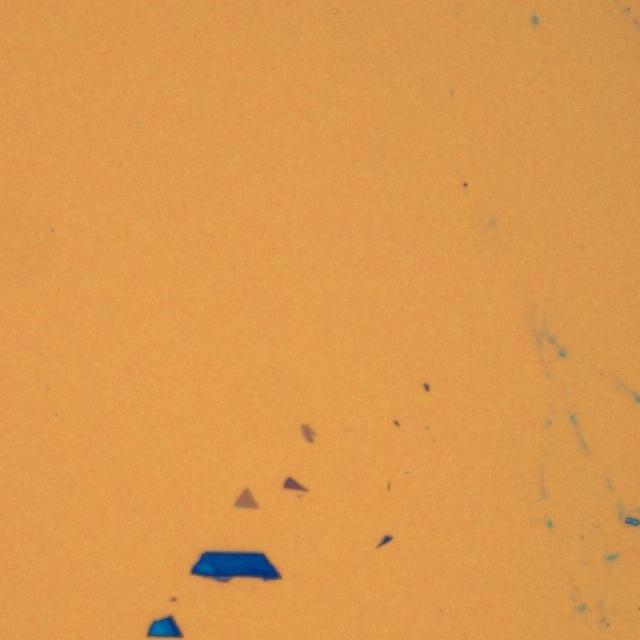monolayer-eWW4: (232, 486, 260, 509), (301, 422, 316, 443)
